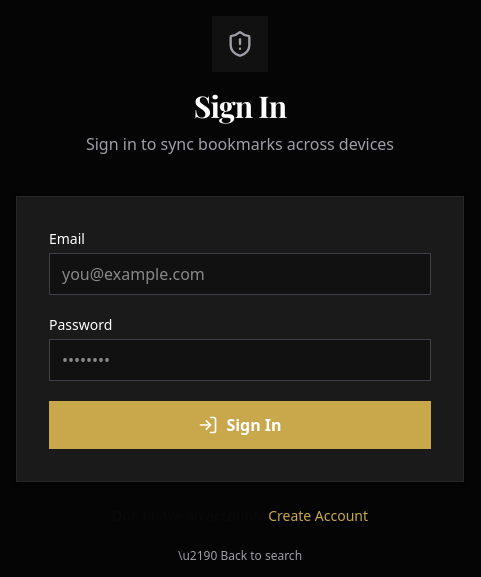
Test: AuthPage › toggle to 'Create Account' changes form mode
The width and height of the screenshot is (481, 577).
Check: the heading "Sign In" is shown, box top-left (194, 86), bottom-right (286, 126)
Click the button "Create Account". click: x=318, y=516
box: top-left (268, 506), bottom-right (368, 526)
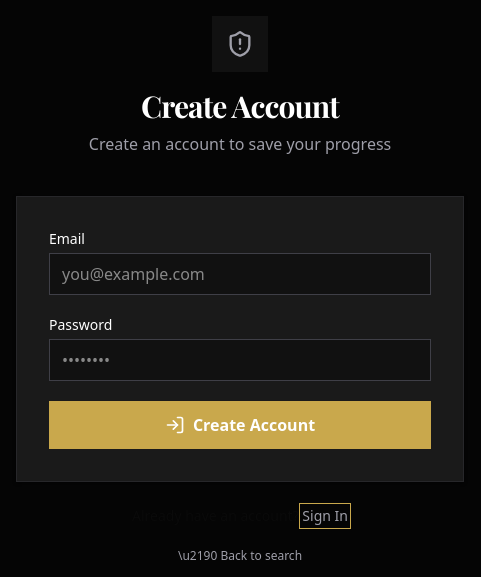
Check: the heading "Create Account" is shown, box top-left (141, 86), bottom-right (339, 126)
Check: the text "Create an account to save your progress" is shown, box top-left (89, 133), bottom-right (391, 155)
